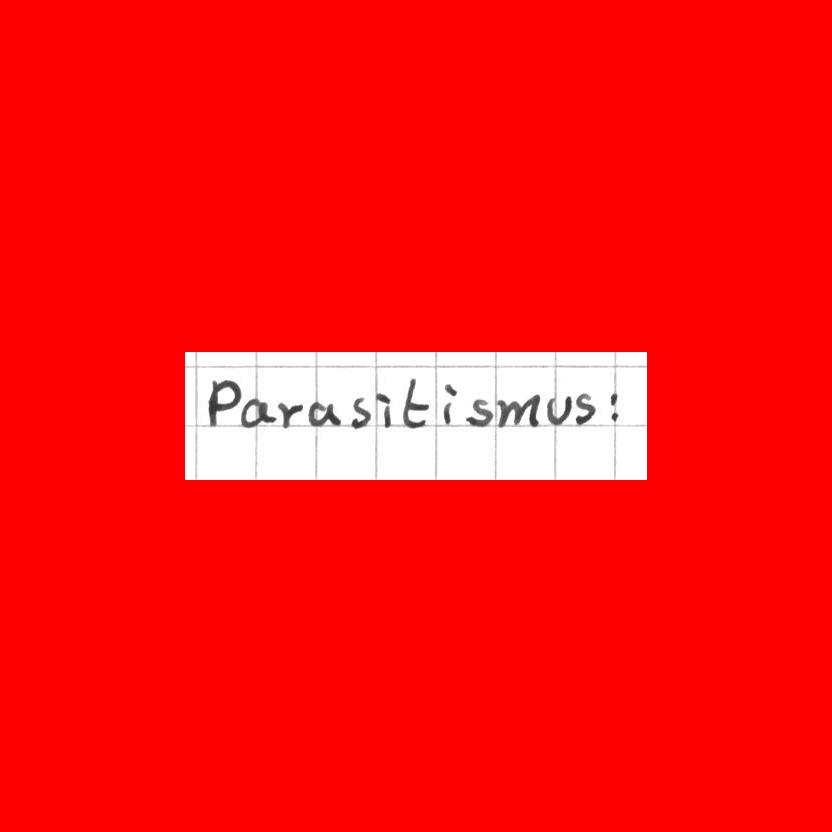Char: (401, 371, 431, 430), (206, 376, 238, 431), (497, 394, 538, 429), (238, 396, 275, 430), (305, 399, 340, 428), (466, 395, 495, 427), (545, 391, 569, 427), (348, 394, 371, 430), (275, 399, 303, 428), (440, 383, 458, 427), (375, 389, 394, 428), (574, 392, 597, 424), (606, 390, 621, 423)
